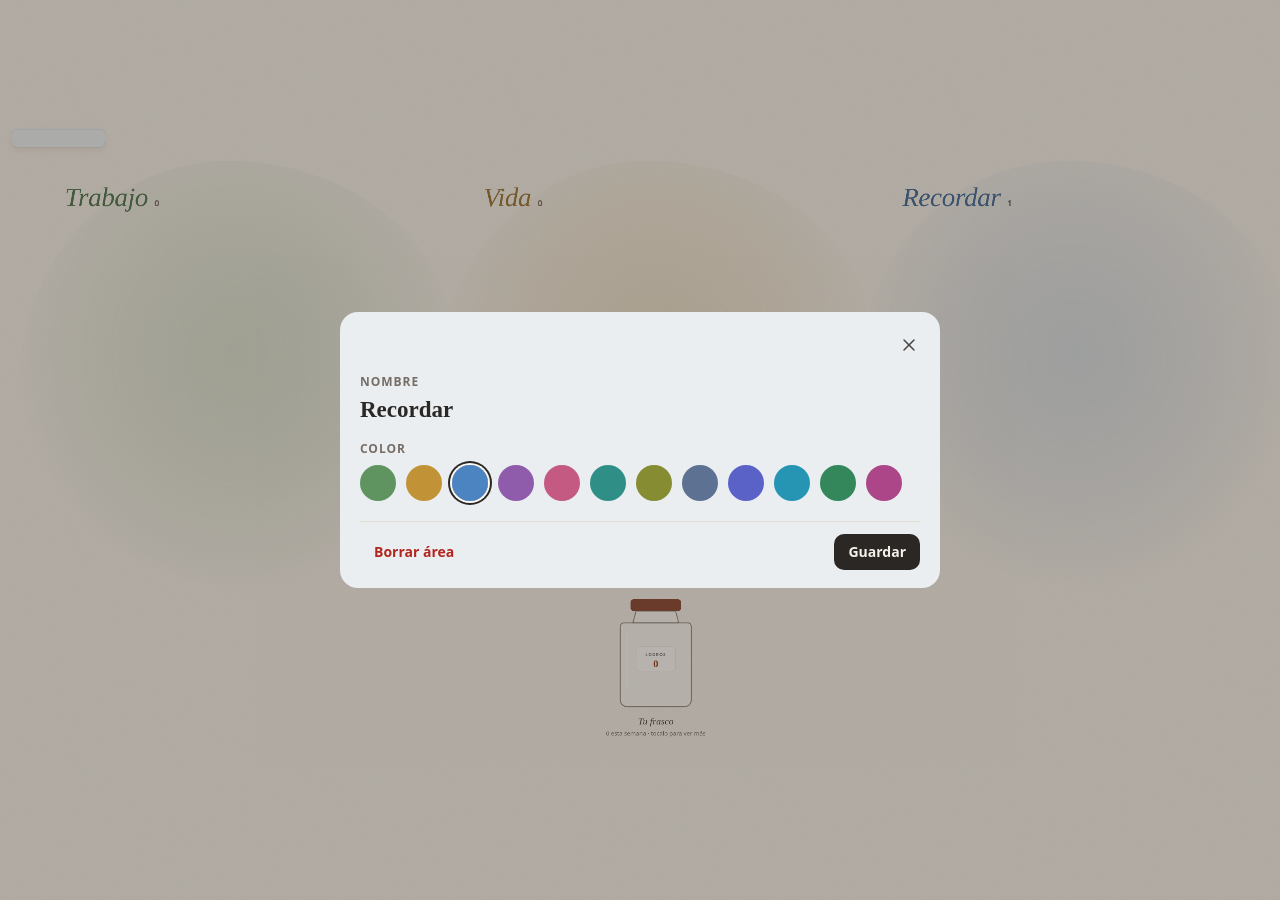
Scenario: AreaEditor › delete › offers Vida first when deleting Recordar
Click the button "Borrar área" at point(414, 552), box x1=360 y1=534 x2=468 y2=570
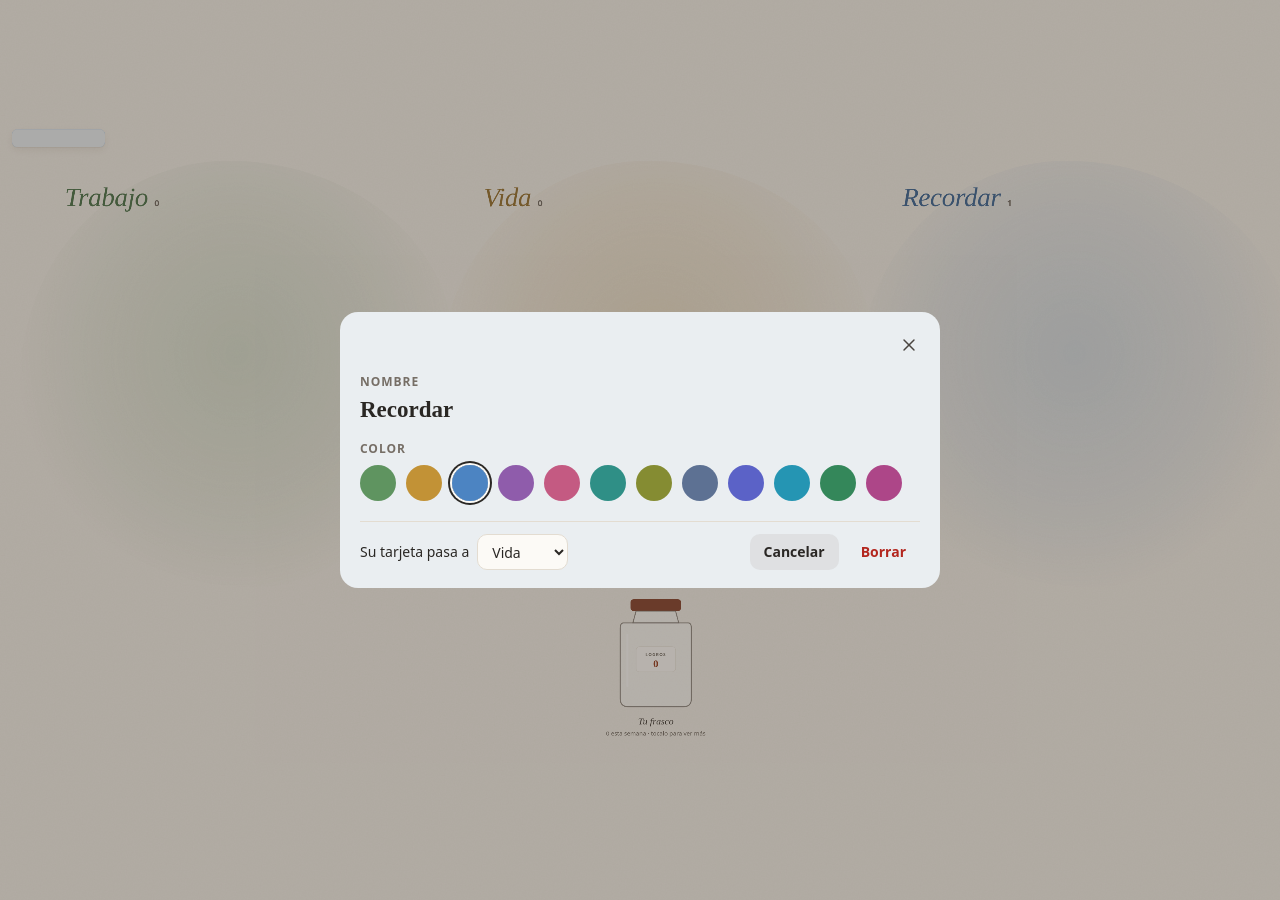
Expected: the dropdown labelled "Su tarjeta pasa a" shows "Vida", x1=477 y1=534 x2=568 y2=570
